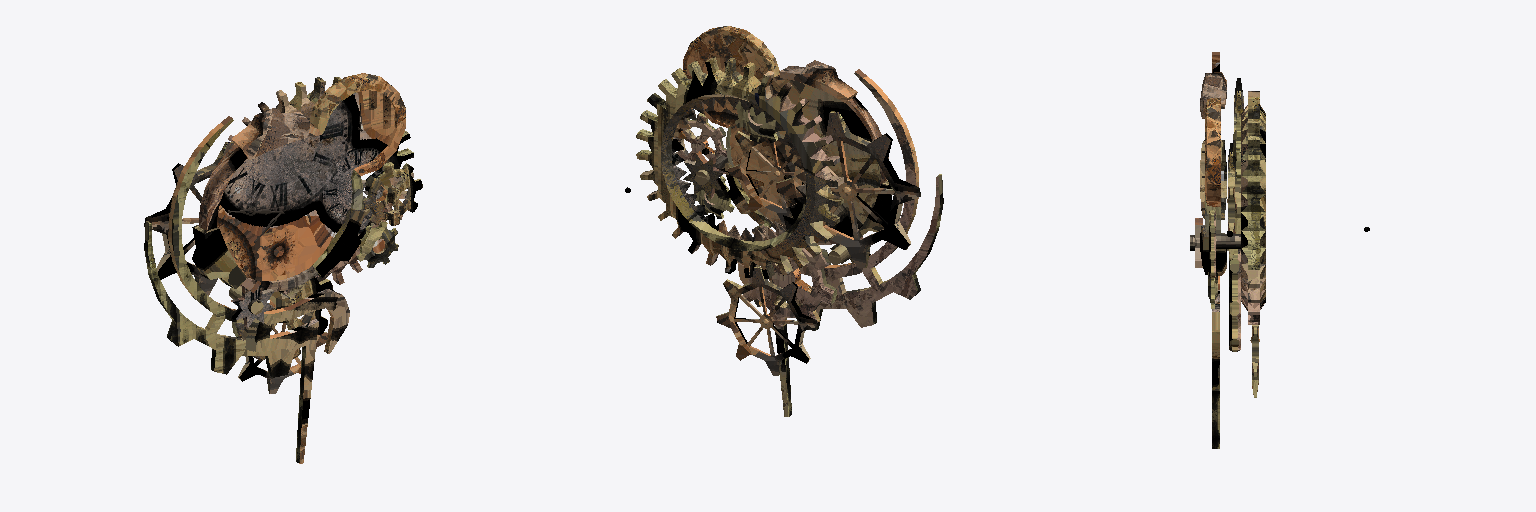
3 renders of one model, left to right at view 1: azimuth 30°, elevation 25°; view 2: azimuth 150°, elevation 25°; view 3: azimuth 270°, elevation 25°, orthographic.
Visible parts, largest first — view 1: Cylinder004_Material_#3_0, outerdecoration_Material_#3_0, Object003_Material_#3_0, Object002_Material_#3_0, Object007_Material_#3_0, Object006_Material_#3_0, Object004_Material_#3_0, Object001_Material_#3_0, Object005_Material_#3_0; view 2: Object003_Material_#3_0, Cylinder004_Material_#3_0, outerdecoration_Material_#3_0, Object007_Material_#3_0, Object005_Material_#3_0, Object006_Material_#3_0, Object008_Material_#3_0, Object009_Material_#3_0, Object002_Material_#3_0, Object010_Material_#3_0, Object001_Material_#3_0; view 3: Object003_Material_#3_0, Cylinder004_Material_#3_0, outerdecoration_Material_#3_0, Object006_Material_#3_0, Object007_Material_#3_0, Object008_Material_#3_0.
Boxes of the visible parts, box(x1,y1,x2,y2) form: Cylinder004_Material_#3_0: box(192, 73, 405, 291); outerdecoration_Material_#3_0: box(144, 116, 349, 463); Object003_Material_#3_0: box(228, 77, 413, 293); Object002_Material_#3_0: box(362, 162, 422, 225); Object007_Material_#3_0: box(144, 142, 233, 295); Object006_Material_#3_0: box(232, 277, 333, 360); Object004_Material_#3_0: box(229, 281, 274, 328); Object001_Material_#3_0: box(356, 221, 398, 267); Object005_Material_#3_0: box(237, 288, 327, 393); Object003_Material_#3_0: box(636, 57, 843, 278); Cylinder004_Material_#3_0: box(683, 26, 892, 244); outerdecoration_Material_#3_0: box(738, 69, 943, 416); Object007_Material_#3_0: box(776, 111, 920, 267); Object005_Material_#3_0: box(716, 267, 817, 375); Object006_Material_#3_0: box(737, 223, 836, 326); Object008_Material_#3_0: box(728, 131, 799, 226); Object009_Material_#3_0: box(683, 151, 727, 198); Object002_Material_#3_0: box(676, 113, 726, 161); Object010_Material_#3_0: box(731, 100, 777, 142); Object001_Material_#3_0: box(693, 176, 734, 218); Object003_Material_#3_0: box(1241, 91, 1265, 324); Cylinder004_Material_#3_0: box(1200, 72, 1226, 275); outerdecoration_Material_#3_0: box(1212, 52, 1219, 448); Object006_Material_#3_0: box(1229, 249, 1240, 351); Object007_Material_#3_0: box(1234, 78, 1243, 233); Object008_Material_#3_0: box(1227, 143, 1235, 258).
Size of the model in its own units: 87.34 by 109 by 47.75.
Materials: 2 (1 with a texture image).